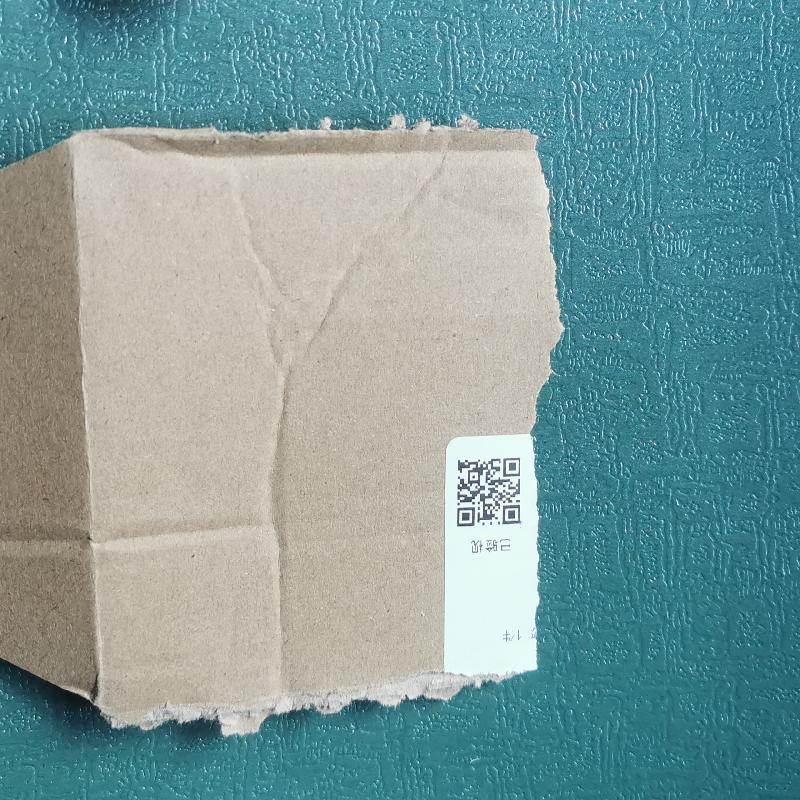boxes: (6, 108, 562, 745)
